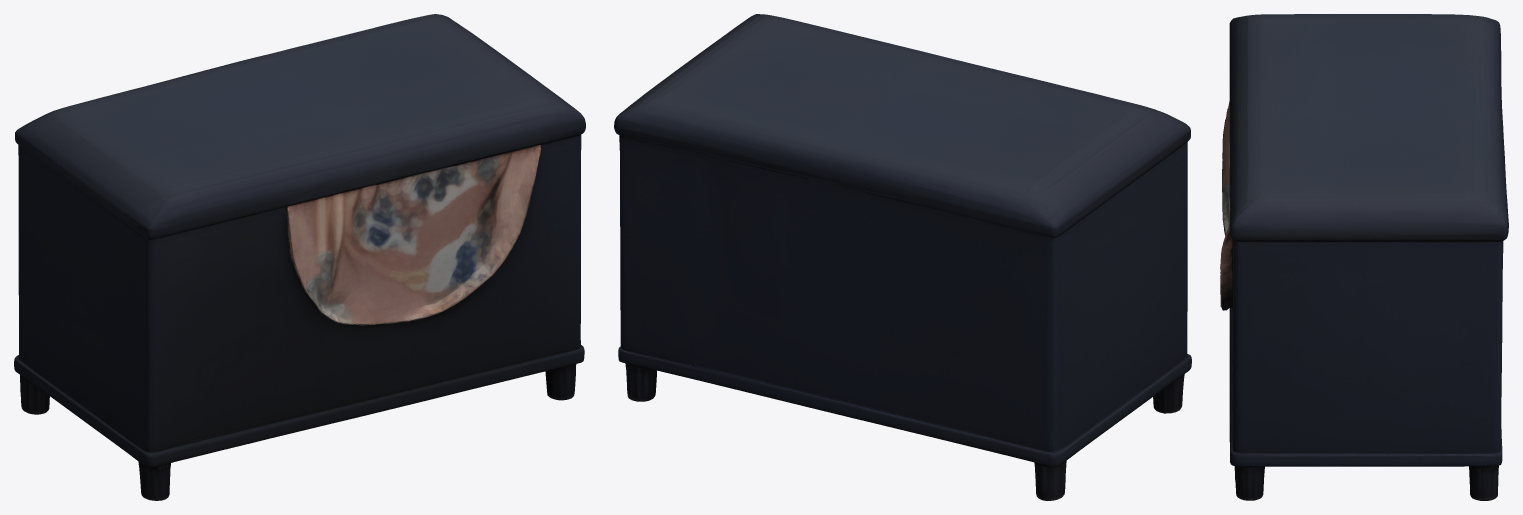
File: 17030_blanket_box_may_small_bax.glb
The picture shows the model from 3 angles, left to right: view 1: azimuth 30°, elevation 25°; view 2: azimuth 150°, elevation 25°; view 3: azimuth 270°, elevation 25°; orthographic projection.
Visible parts, largest first — view 1: world; view 2: world; view 3: world.
Part boxes in pixels (left/top/right/bottom): world: left=14, top=14, right=585, bottom=500; world: left=614, top=14, right=1191, bottom=500; world: left=1220, top=14, right=1508, bottom=500.
Size of the model in its own units: 0.9986 by 0.6444 by 0.5734.
Materials: 1 (1 with a texture image).
